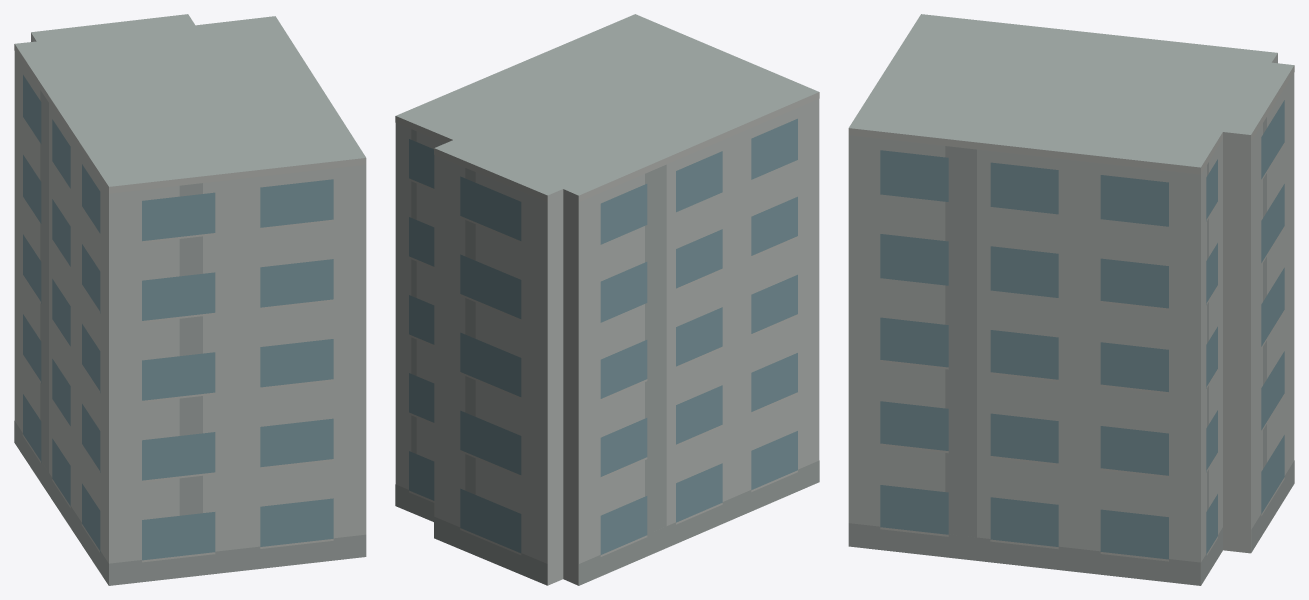
Rendered from survey-upis-32799655.glb.
3 renders of one model, left to right at view 1: azimuth 30°, elevation 25°; view 2: azimuth 150°, elevation 25°; view 3: azimuth 270°, elevation 25°, orthographic. The views are drawn at different scales.
Parts seen in each view (by area): view 1: survey-upis-32799655.tmp; view 2: survey-upis-32799655.tmp; view 3: survey-upis-32799655.tmp.
Boxes of the visible parts, x1,y1,x2,y2 form: survey-upis-32799655.tmp: (14,14,366,585); survey-upis-32799655.tmp: (395,14,819,585); survey-upis-32799655.tmp: (848,14,1294,585).
Size of the model in its own units: 11.26 by 14.3 by 13.82.
